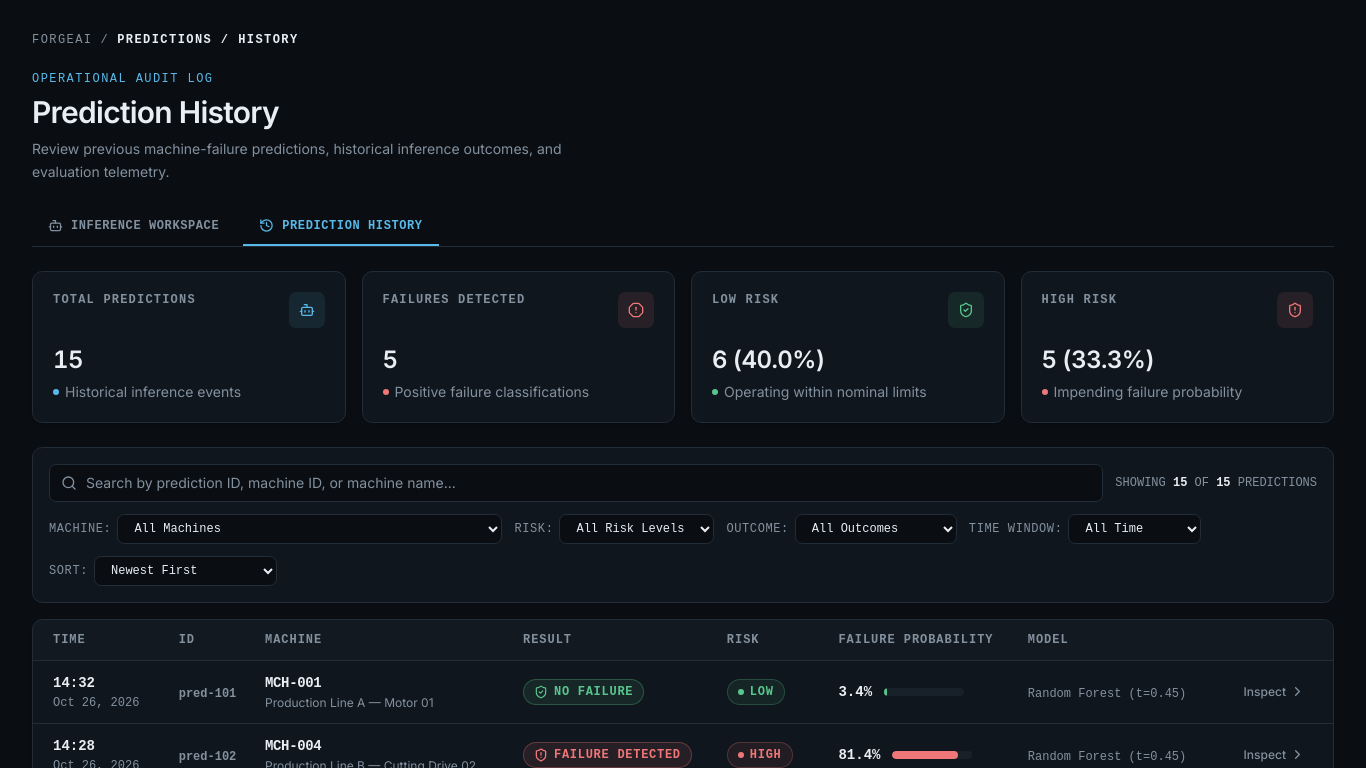
Test: Prediction History Experience (Part 10) › filters predictions by machine
Select "MCH-001 — Production Line A — Motor 01" in the dropdown named "Filter predictions by machine" at (310, 528), box top-left (117, 514), bottom-right (502, 544)
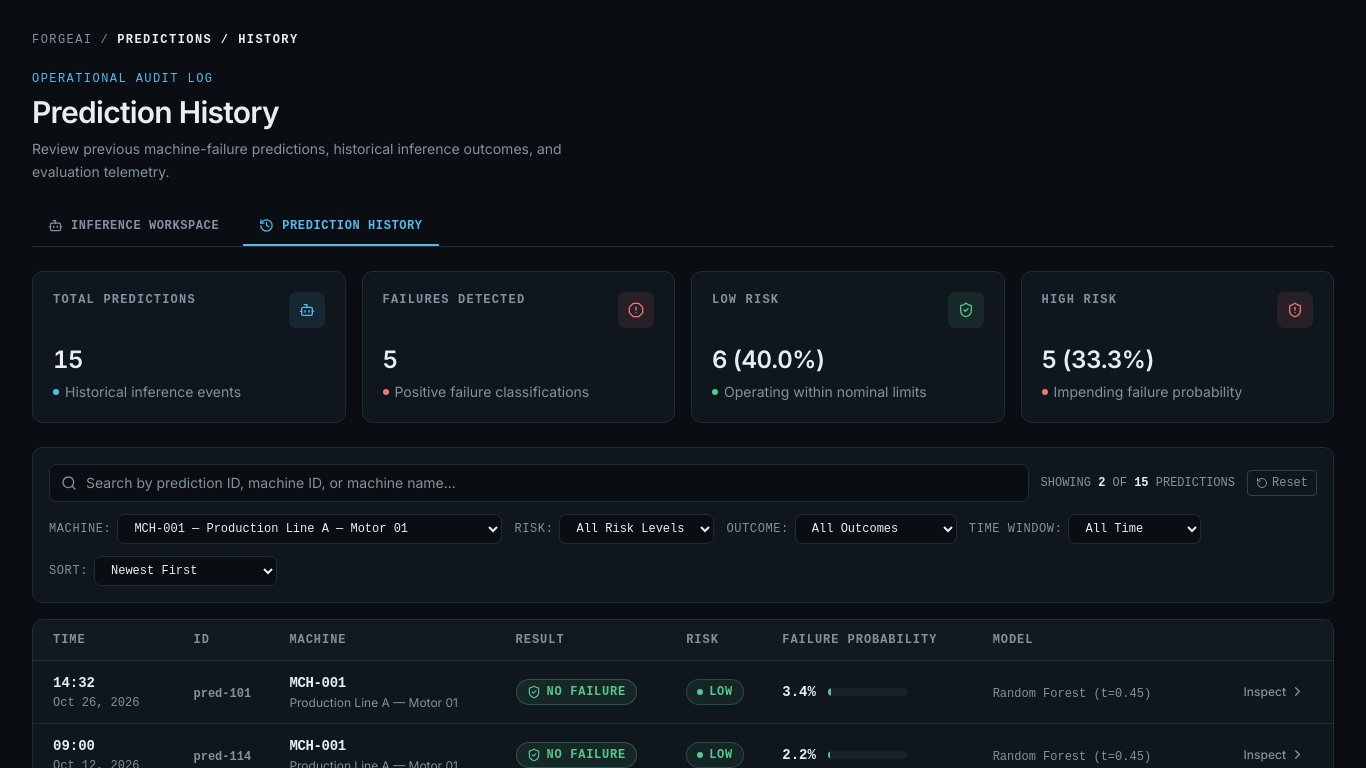
Expected: the text "pred-101" is shown, top-left (194, 686), bottom-right (251, 700)
Now the text "pred-102" is gone
